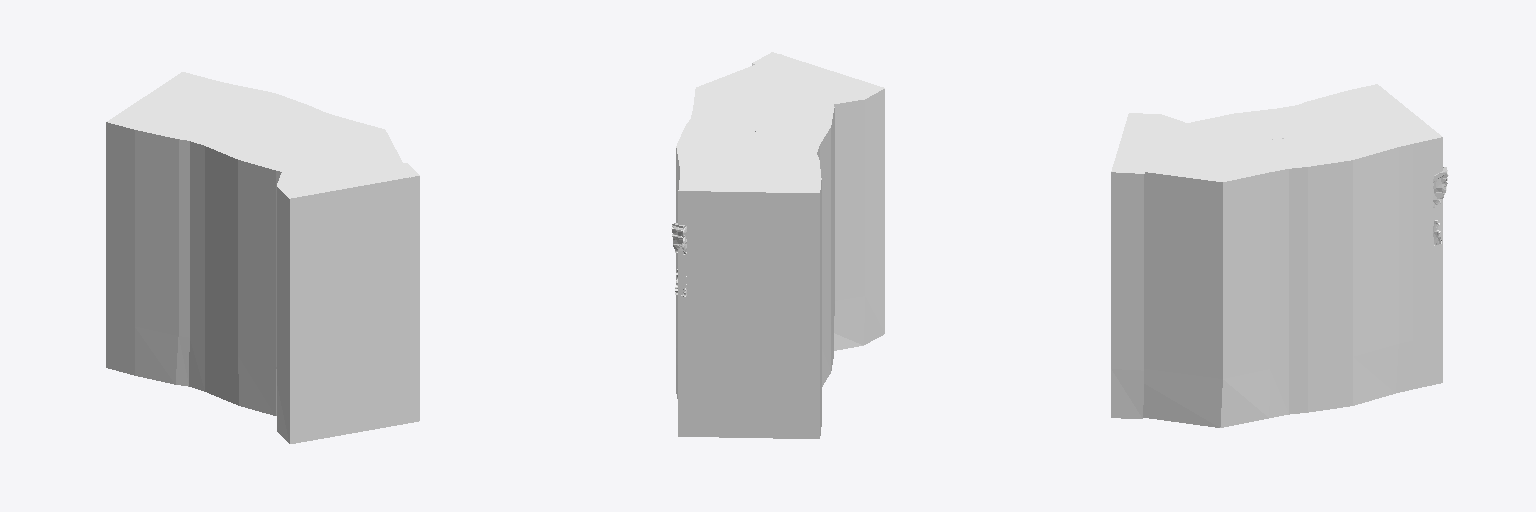
The model's file is hatchetfish.obj.
3 views of the same model, side by side, from view 1: azimuth 30°, elevation 25°; view 2: azimuth 150°, elevation 25°; view 3: azimuth 270°, elevation 25° (orthographic).
Visible parts, largest first — view 1: Cube.1; view 2: Cube.1; view 3: Cube.1, staartvin.1.
Part boxes in pixels (x1,y1,x2,y2): Cube.1: (106, 72, 419, 443); Cube.1: (676, 52, 884, 438); Cube.1: (1111, 84, 1442, 427); staartvin.1: (1433, 167, 1448, 245).
Bounding box in the file's own units: 529 × 617 × 767.